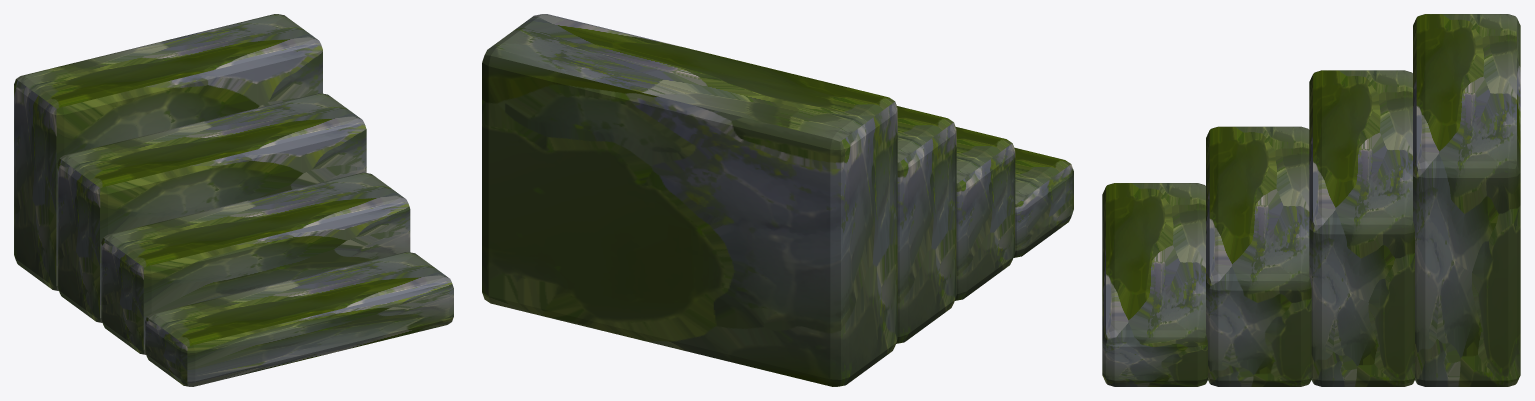
Rendered from Old_Stone_Steps_Barren.glb.
3 views of the same model, side by side, from view 1: azimuth 30°, elevation 25°; view 2: azimuth 150°, elevation 25°; view 3: azimuth 270°, elevation 25° (orthographic). The views are drawn at different scales.
Visible parts, largest first — view 1: Structure; view 2: Structure; view 3: Structure.
Part boxes in pixels (x1,y1,x2,y2): Structure: [14, 14, 453, 386]; Structure: [482, 14, 1073, 386]; Structure: [1102, 14, 1520, 386].
Size of the model in its own units: 1.8 by 1.2 by 2.02.
Materials: 1 (1 with a texture image).
